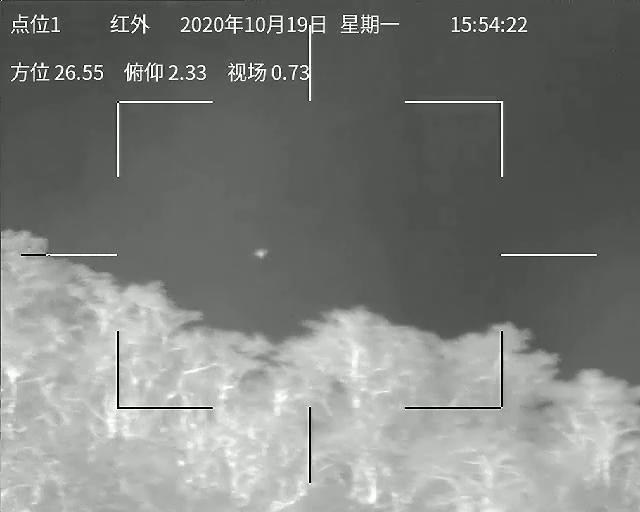uav: (251, 247, 270, 262)
